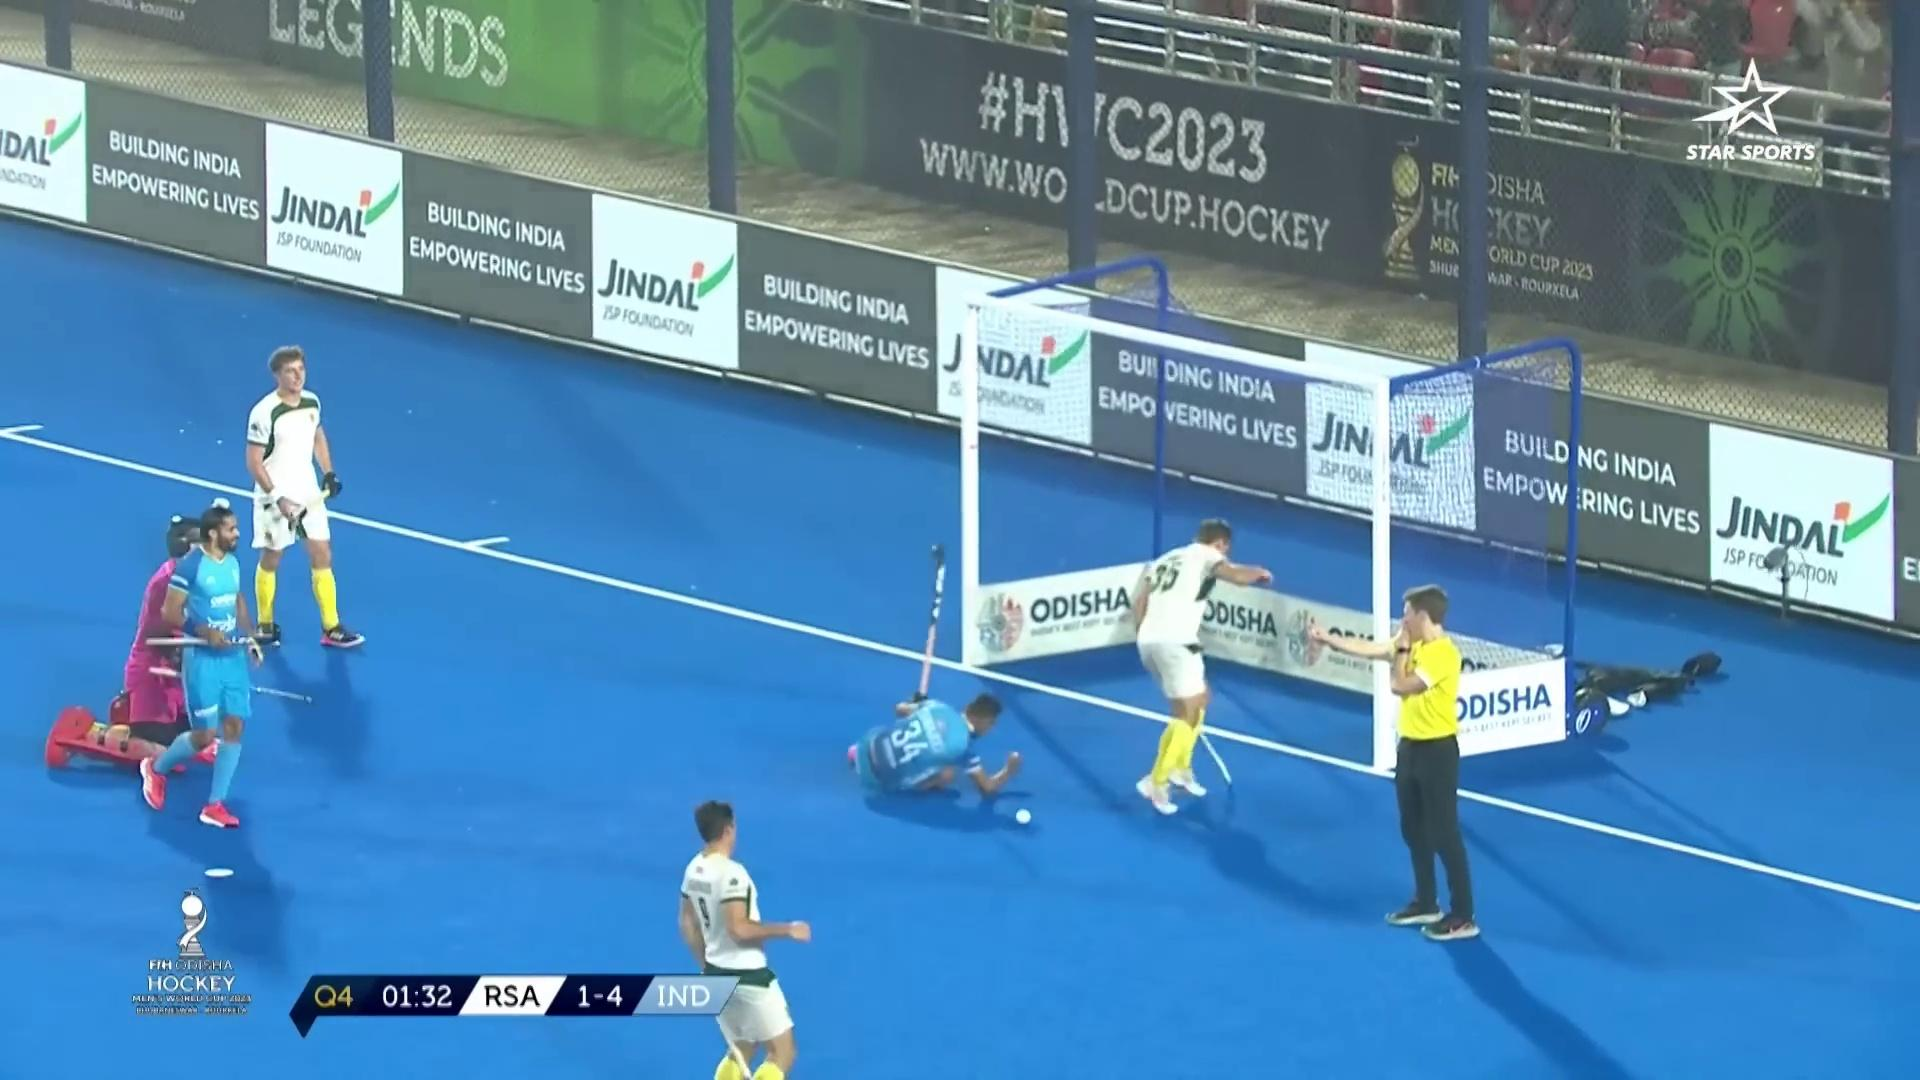ball: (1005, 796, 1039, 833)
